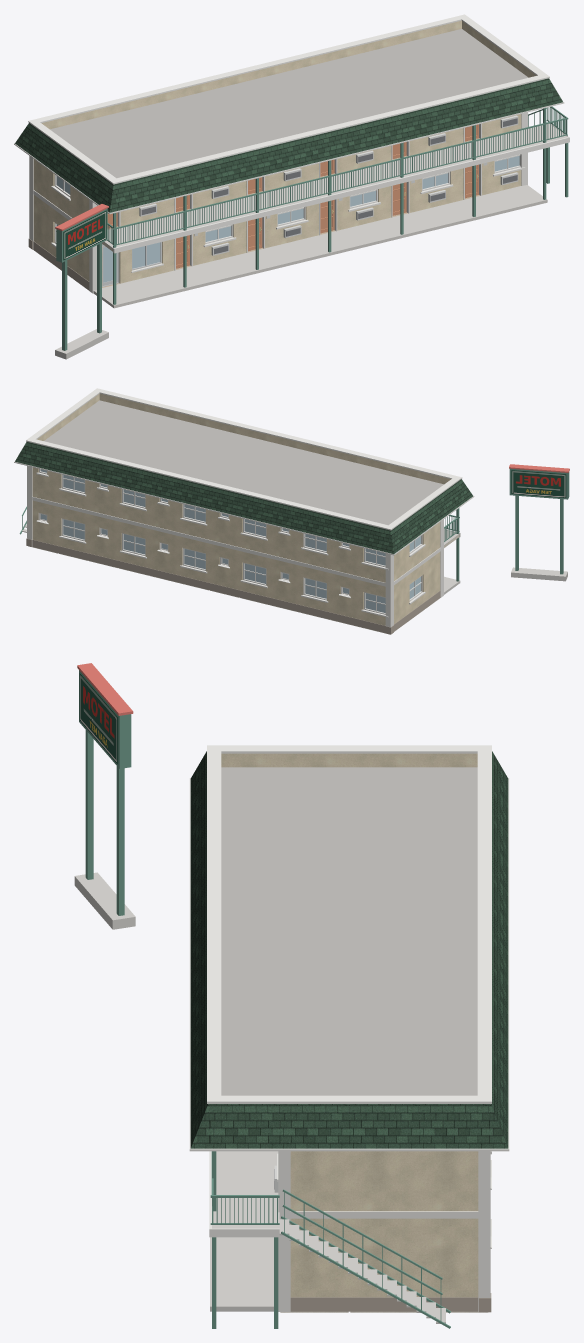
File: building_assembled.glb
3 views of the same model, one above another, from view 1: azimuth 30°, elevation 25°; view 2: azimuth 150°, elevation 25°; view 3: azimuth 270°, elevation 25° (orthographic). The views are drawn at different scales.
Visible parts, largest first — view 1: building_roof, building_concrete, building_stucco, building_shingle, building_trim, building_post, building_door, building_glass, building_frame, building_metal, building_sign, building_dark (+1 smaller); view 2: building_stucco, building_roof, building_shingle, building_trim, building_glass, building_plinth, building_frame, building_post, building_sign, building_concrete, building_plaster; view 3: building_roof, building_stucco, building_shingle, building_trim, building_concrete, building_post, building_plinth, building_sign, building_neon.
Boxes of the visible parts, bbox=[...] form: building_roof: bbox=[50, 29, 528, 178]; building_concrete: bbox=[55, 123, 567, 359]; building_stucco: bbox=[33, 20, 536, 287]; building_shingle: bbox=[15, 78, 562, 212]; building_trim: bbox=[14, 14, 569, 293]; building_post: bbox=[56, 106, 568, 350]; building_door: bbox=[107, 124, 478, 268]; building_glass: bbox=[56, 156, 519, 282]; building_frame: bbox=[54, 123, 520, 270]; building_metal: bbox=[139, 115, 518, 255]; building_sign: bbox=[63, 210, 106, 260]; building_dark: bbox=[141, 118, 517, 254]; building_stucco: bbox=[32, 393, 450, 625]; building_roof: bbox=[44, 400, 443, 525]; building_shingle: bbox=[15, 442, 472, 553]; building_trim: bbox=[14, 388, 474, 627]; building_glass: bbox=[40, 469, 420, 612]; building_plinth: bbox=[26, 538, 440, 634]; building_frame: bbox=[38, 469, 422, 614]; building_post: bbox=[19, 468, 569, 581]; building_sign: bbox=[511, 470, 566, 497]; building_concrete: bbox=[22, 522, 567, 594]; building_plaster: bbox=[30, 534, 459, 634]; building_roof: bbox=[221, 767, 477, 1095]; building_stucco: bbox=[221, 753, 478, 1297]; building_shingle: bbox=[190, 751, 508, 1148]; building_trim: bbox=[189, 745, 509, 1311]; building_concrete: bbox=[74, 872, 445, 1323]; building_post: bbox=[79, 670, 450, 1328]; building_plinth: bbox=[290, 1293, 491, 1312]; building_sign: bbox=[79, 673, 118, 764]; building_neon: bbox=[77, 663, 133, 715].
Bounding box in the file's own units: 30.43 × 6.93 × 12.46.
20 materials, 4 textured.
